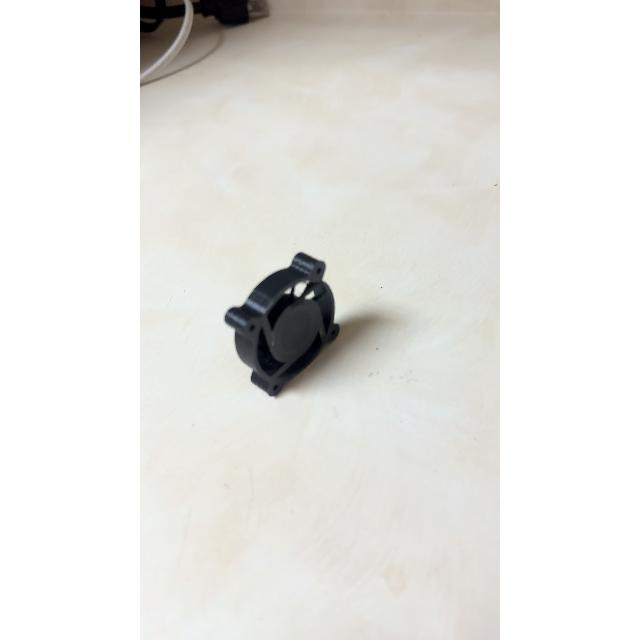Pieza_4: (205, 232, 365, 408)
